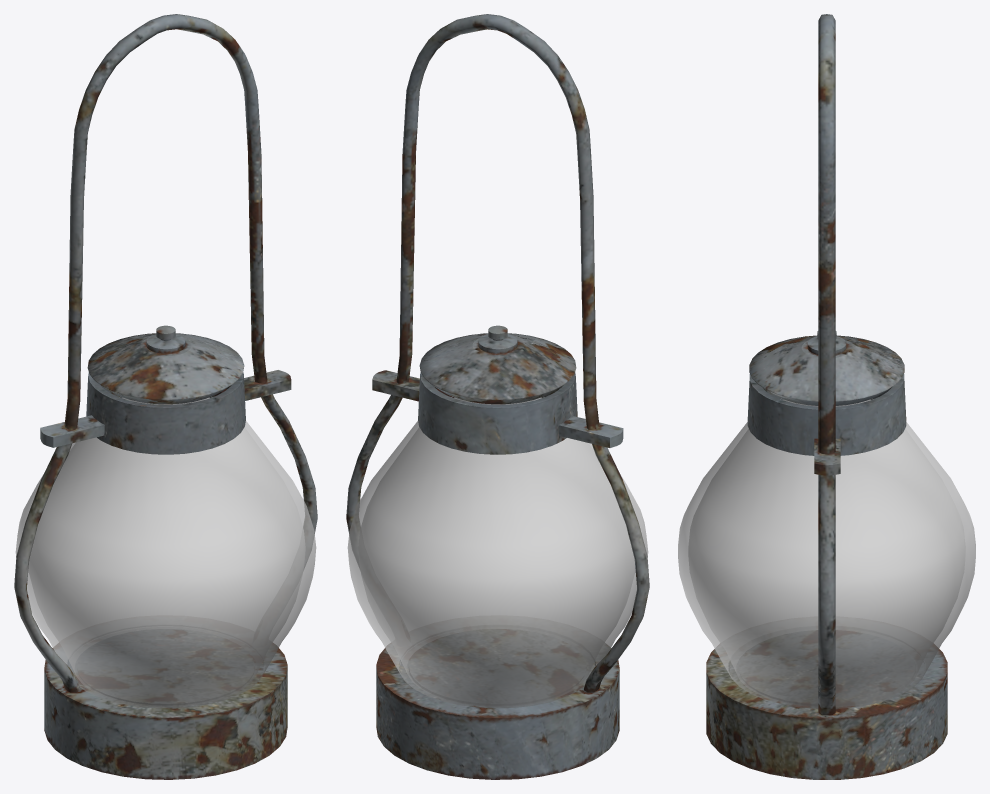
The model's file is lamps_1_1.fbx.
3 renders of one model, left to right at view 1: azimuth 30°, elevation 25°; view 2: azimuth 150°, elevation 25°; view 3: azimuth 270°, elevation 25°, orthographic.
Parts seen in each view (by area): view 1: lamps_1_1; view 2: lamps_1_1; view 3: lamps_1_1.
Part boxes in pixels (box(x1,y1,x2,y2)): lamps_1_1: box(14, 14, 317, 779); lamps_1_1: box(346, 14, 649, 779); lamps_1_1: box(678, 14, 975, 779).
Size of the model in its own units: 12.99 by 29.21 by 11.13.
